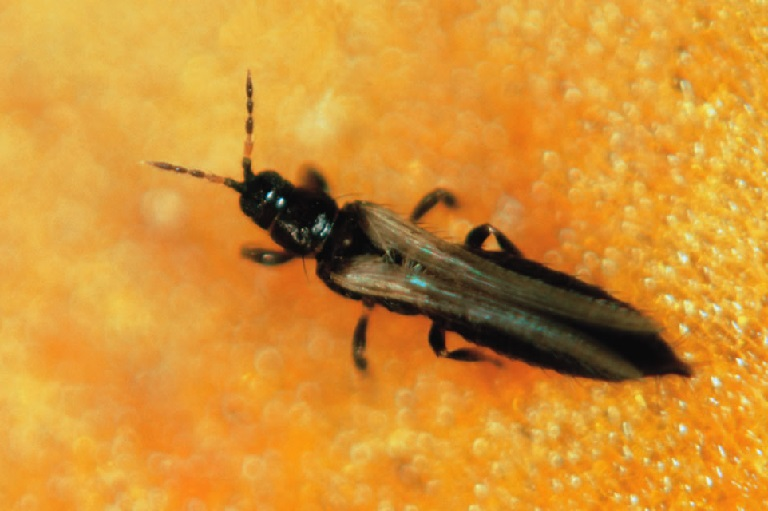Thrips: (154, 81, 710, 428)
